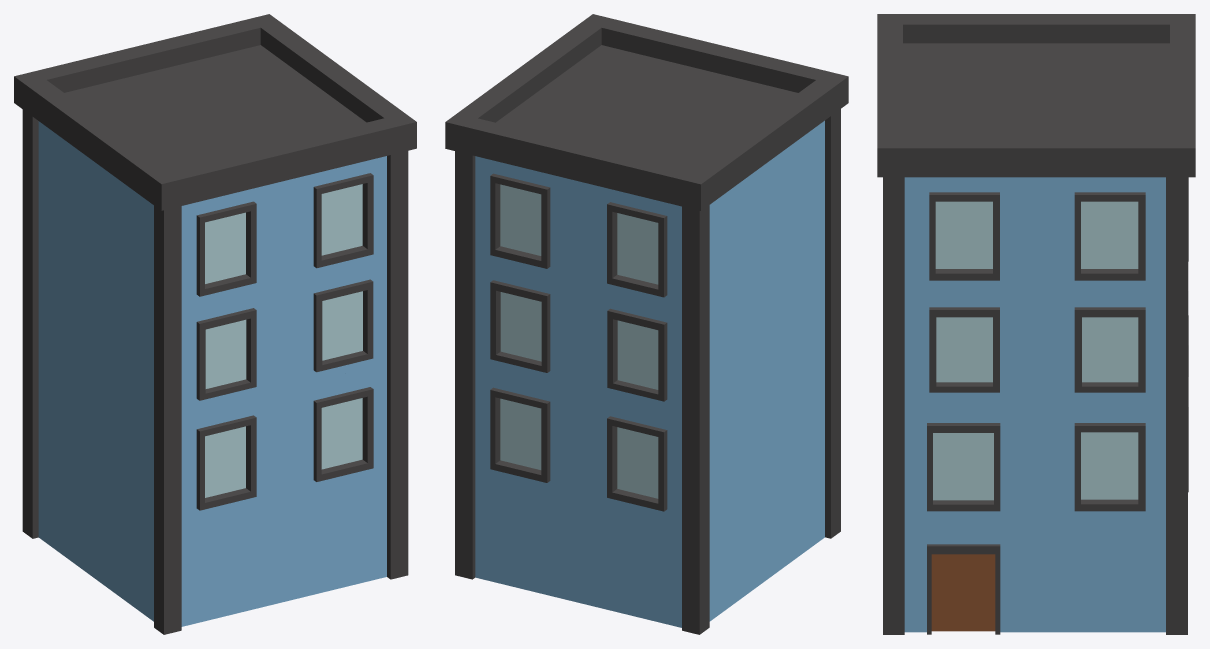
The model's file is house_tall002.fbx.
The picture shows the model from 3 angles, left to right: view 1: azimuth 30°, elevation 25°; view 2: azimuth 150°, elevation 25°; view 3: azimuth 270°, elevation 25°; orthographic projection. The views are drawn at different scales.
Visible parts, largest first — view 1: Plane.011; view 2: Plane.011; view 3: Plane.011.
Part boxes in pixels (box(x1,y1,x2,y2)): Plane.011: box(14, 14, 416, 634); Plane.011: box(445, 14, 848, 634); Plane.011: box(877, 14, 1195, 634).
Size of the model in its own units: 875 by 1485 by 875.
